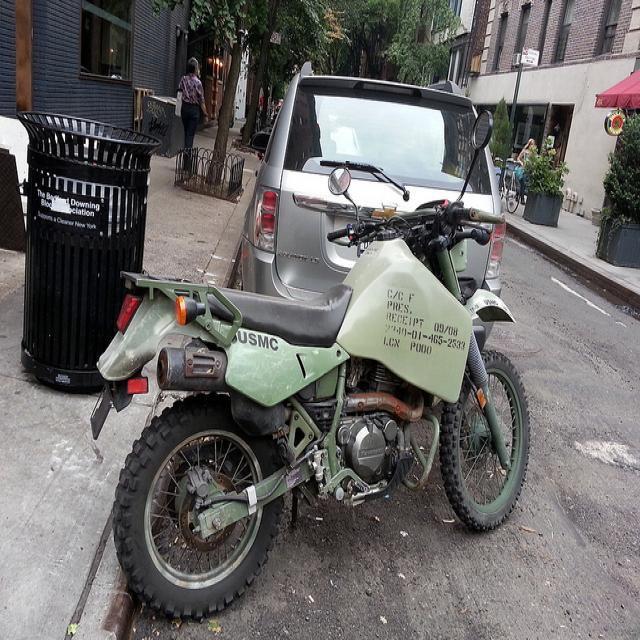motor: (91, 108, 530, 610)
